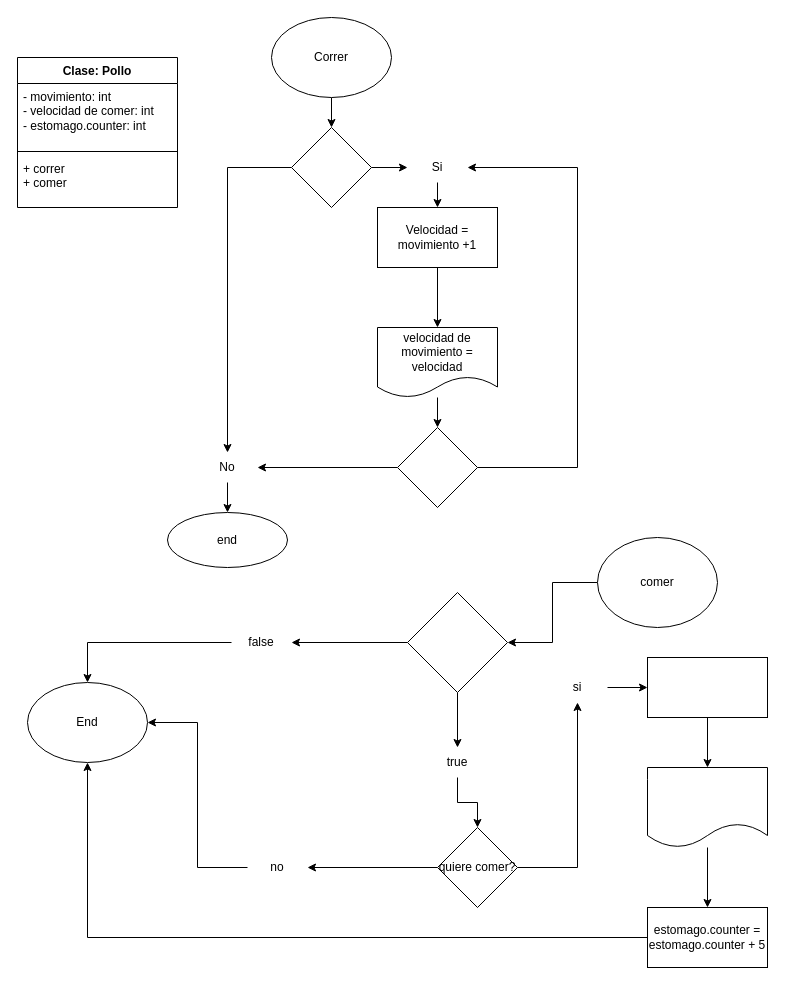
Image size: 785x985. Some labels were removed from this diagram. The shapes that lost their labels are listed below. From the top down, each one's box as (x1, y1, x2, y2) in pixels, then its label:
(290, 126, 372, 208): Esta corriendo?
(396, 426, 478, 508): SIgue corriendo?
(406, 592, 508, 692): estomago.counter >= 0
(646, 656, 768, 718): tardanza = velocidad.comer
(646, 766, 768, 848): Se tarda en comer = tardanza
